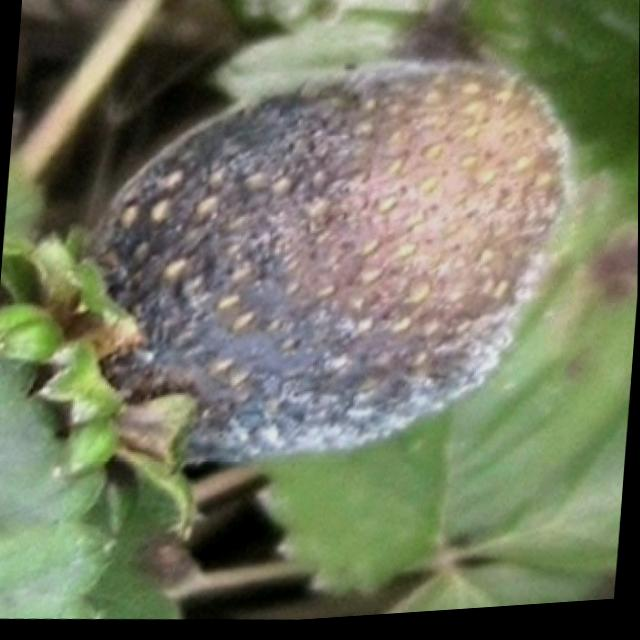Gray Mold: (75, 63, 570, 470)
